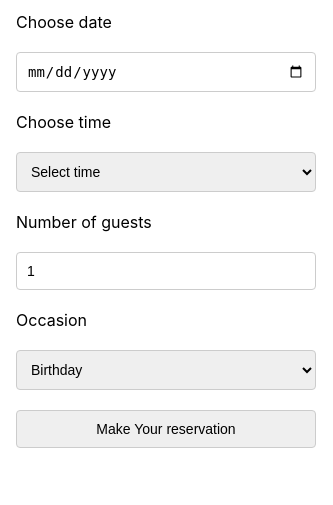
displays error message for empty occasion field
Select "" in the dropdown labelled "Occasion" at (166, 370), box [16,350,316,390]
Leave the dropdown labelled "Occasion", box [16,350,316,390]
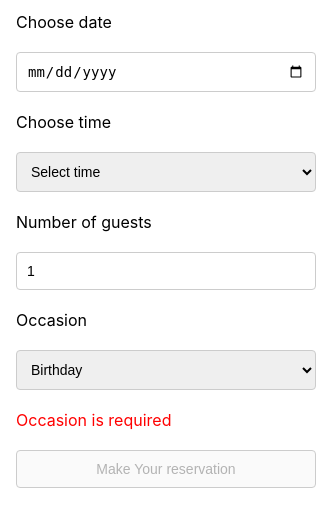
expect the text "Occasion is required" is shown: met, box [16,410,172,430]
